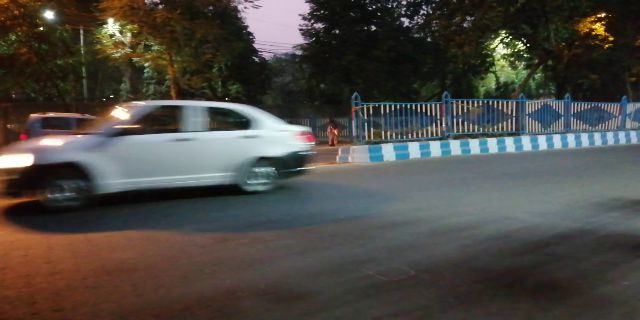Car: (9, 98, 319, 210)
